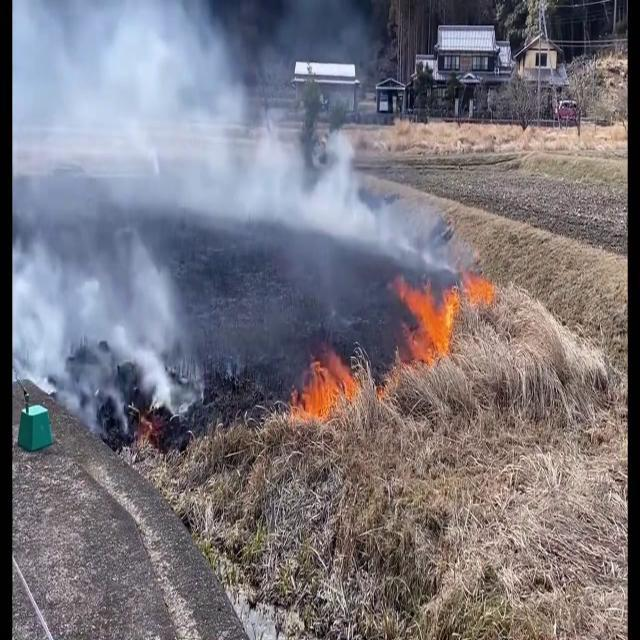Fire: (396, 264, 494, 366), (290, 344, 368, 428)
Smoke: (14, 1, 442, 270), (12, 170, 196, 427)
